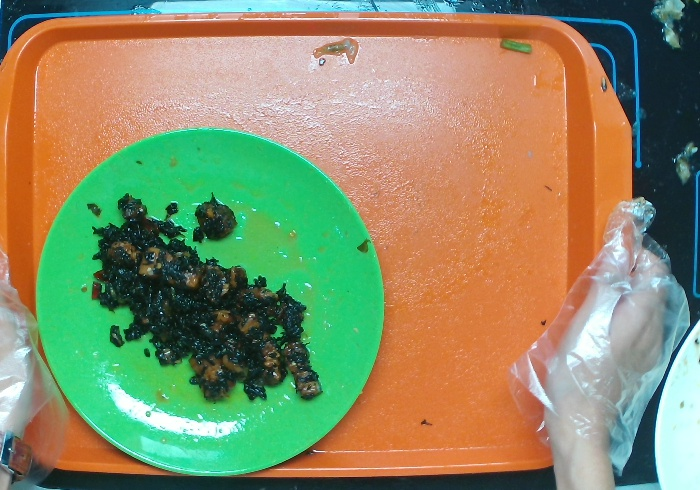HZYJPL-Lv_Se_Yuan_Pan: (31, 126, 386, 479)
